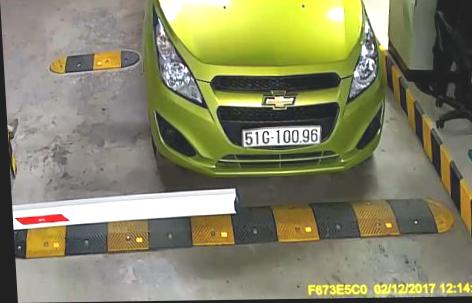License_Plate: (240, 121, 322, 149)
